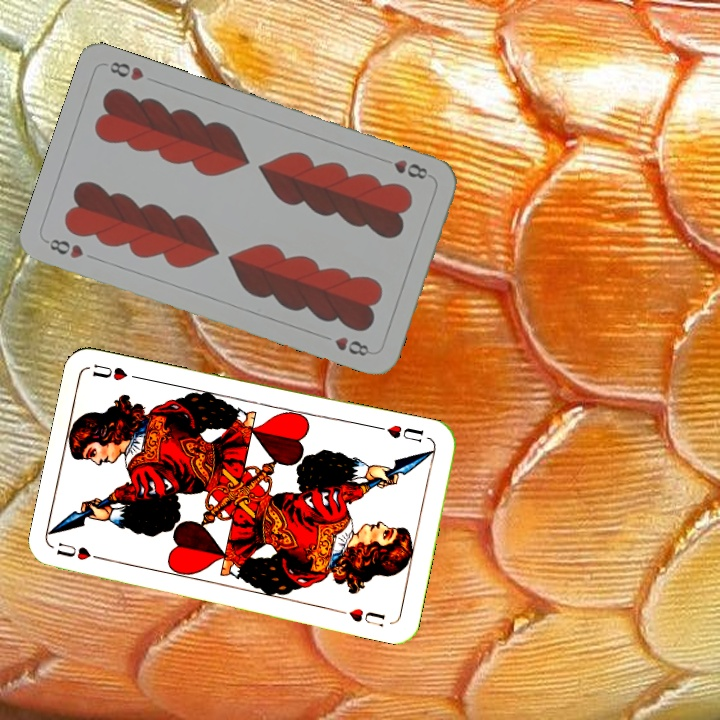H8: (42, 234, 86, 261), (389, 155, 430, 182)
HU: (53, 538, 110, 564), (373, 420, 427, 445)
